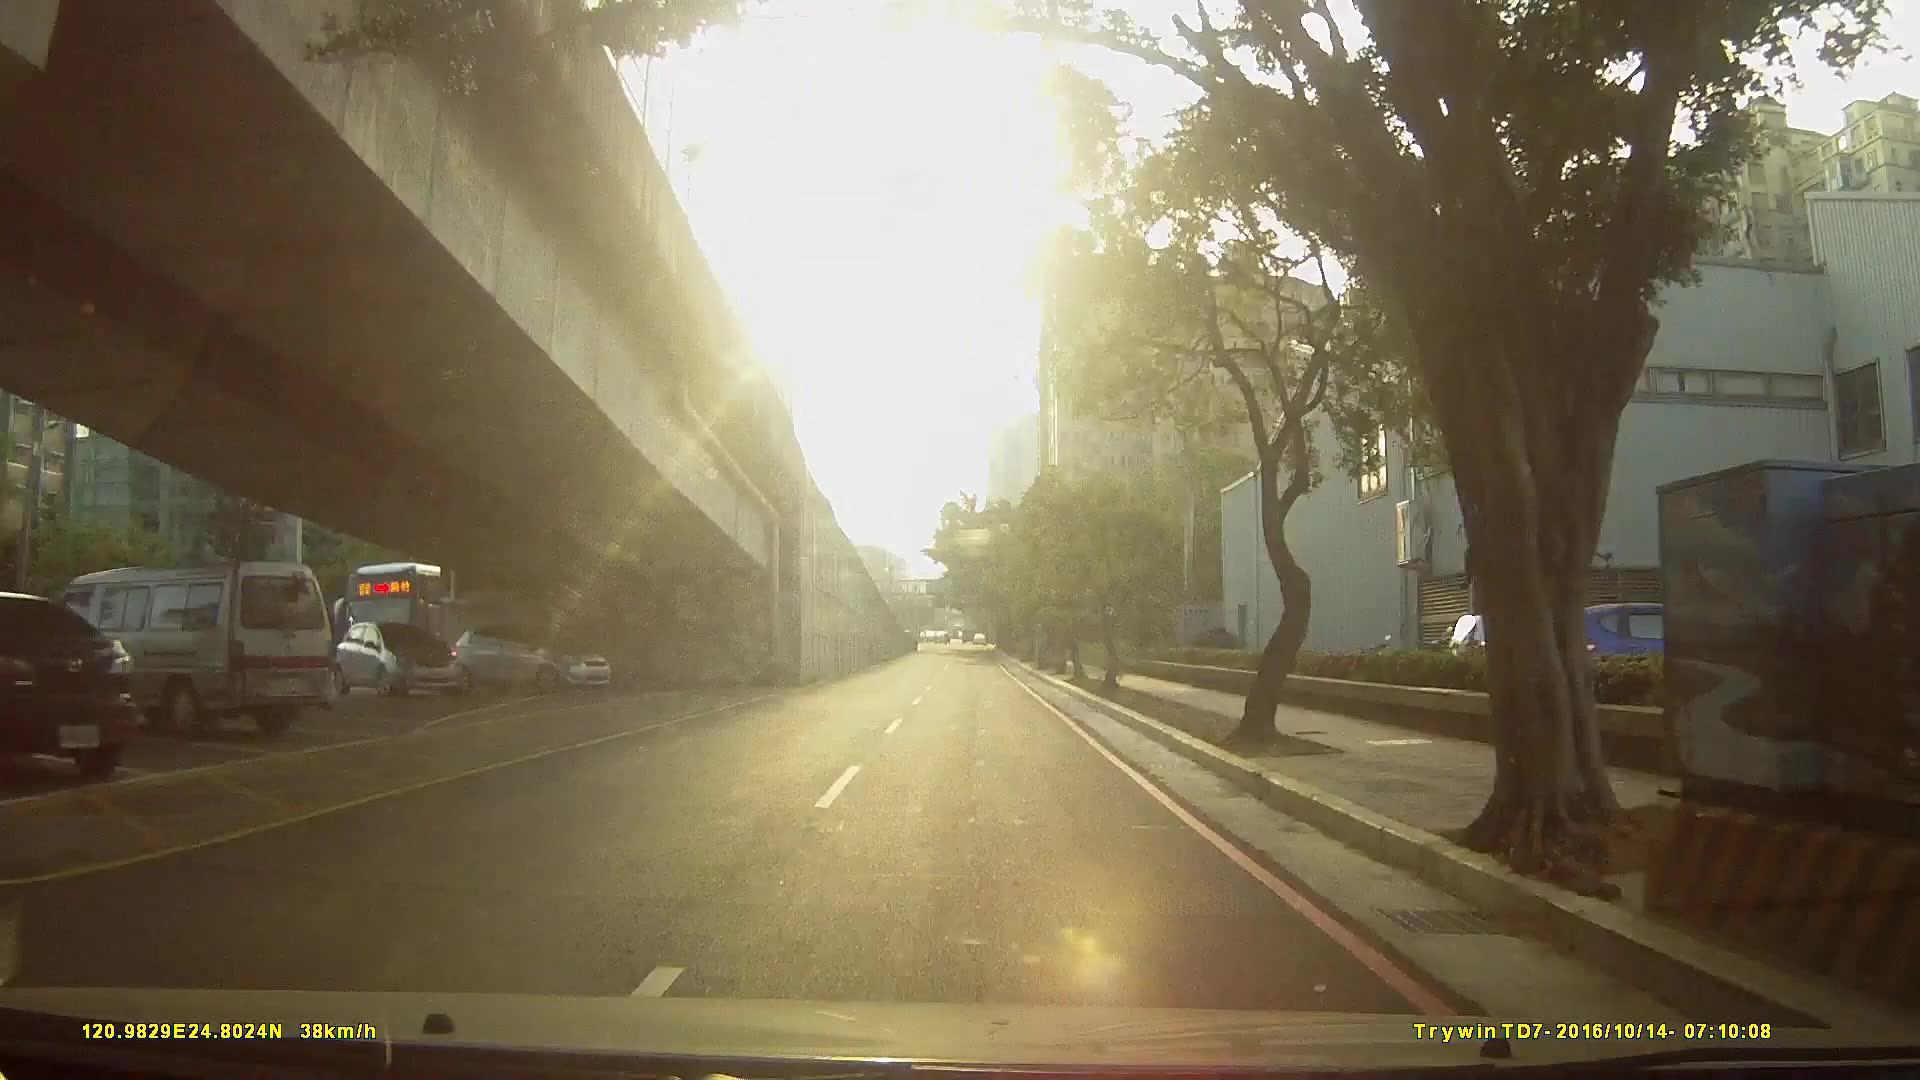vehicle: (32, 556, 335, 740), (332, 560, 538, 694), (1, 593, 142, 786), (442, 618, 611, 696), (324, 618, 458, 702)
